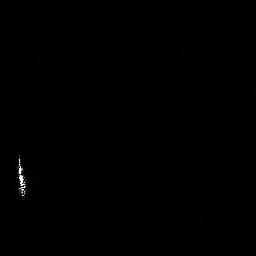ship: (16, 153, 29, 201)
